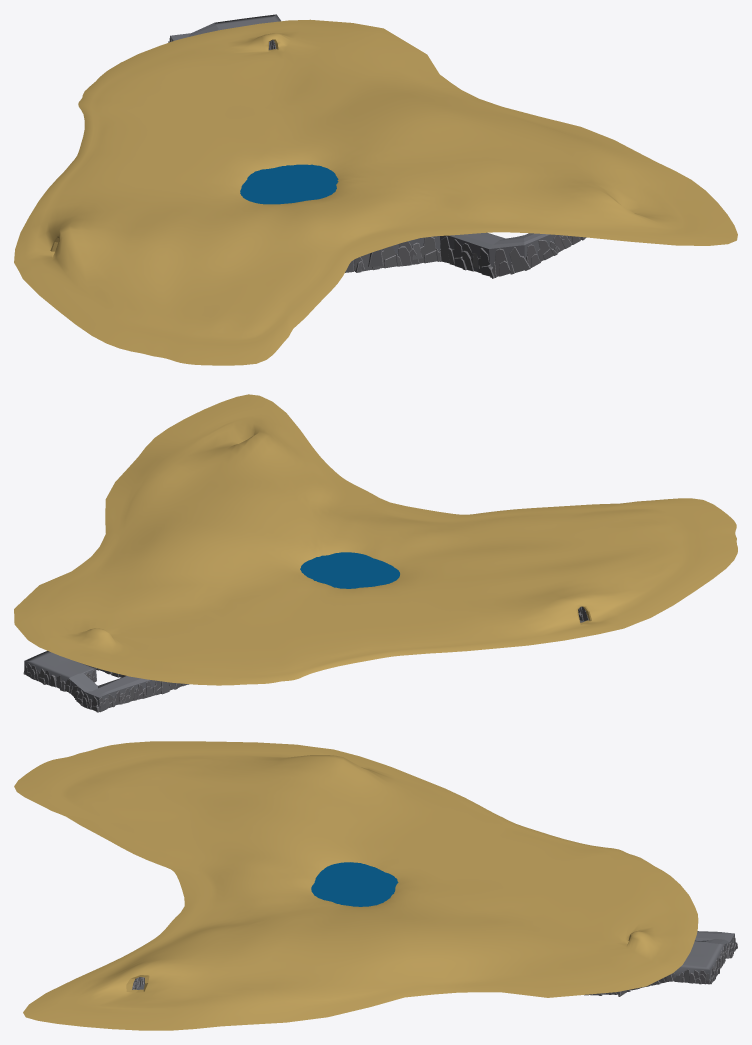
File: map_v04.fbx
3 views of the same model, one above another, from view 1: azimuth 30°, elevation 25°; view 2: azimuth 150°, elevation 25°; view 3: azimuth 270°, elevation 25° (orthographic). The views are drawn at different scales.
Visible parts, largest first — view 1: beach, oasisPond, cave_paths; view 2: beach, oasisPond, cave_paths; view 3: beach, oasisPond, cave_paths.
Boxes of the visible parts, bbox=[...] form: beach: bbox=[14, 19, 737, 365]; oasisPond: bbox=[240, 164, 338, 204]; cave_paths: bbox=[170, 14, 568, 271]; beach: bbox=[14, 394, 737, 685]; oasisPond: bbox=[300, 552, 399, 588]; cave_paths: bbox=[24, 620, 585, 707]; beach: bbox=[14, 741, 698, 1030]; oasisPond: bbox=[311, 862, 398, 906]; cave_paths: bbox=[135, 931, 734, 989].
Size of what is drawn, in the model's own units: 54.12 by 6.08 by 57.16.
